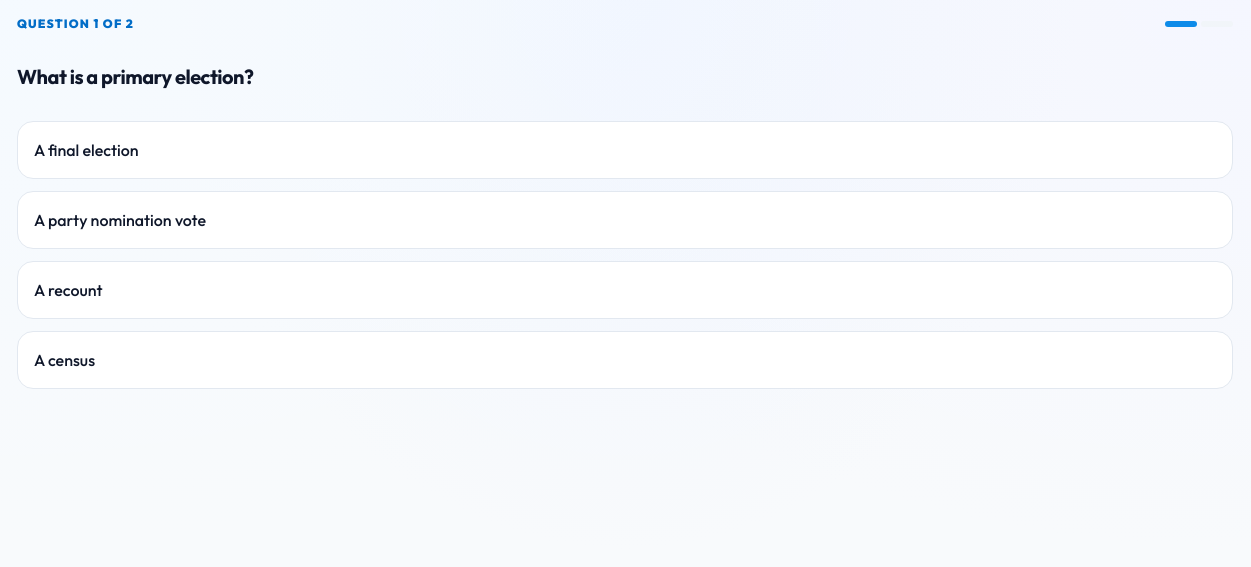
Test case: QuizBlock › shows result screen after last question
Answer Q1
Step 1. Click the button "A party nomination vote" → (120, 220), box [17,191,1233,249]
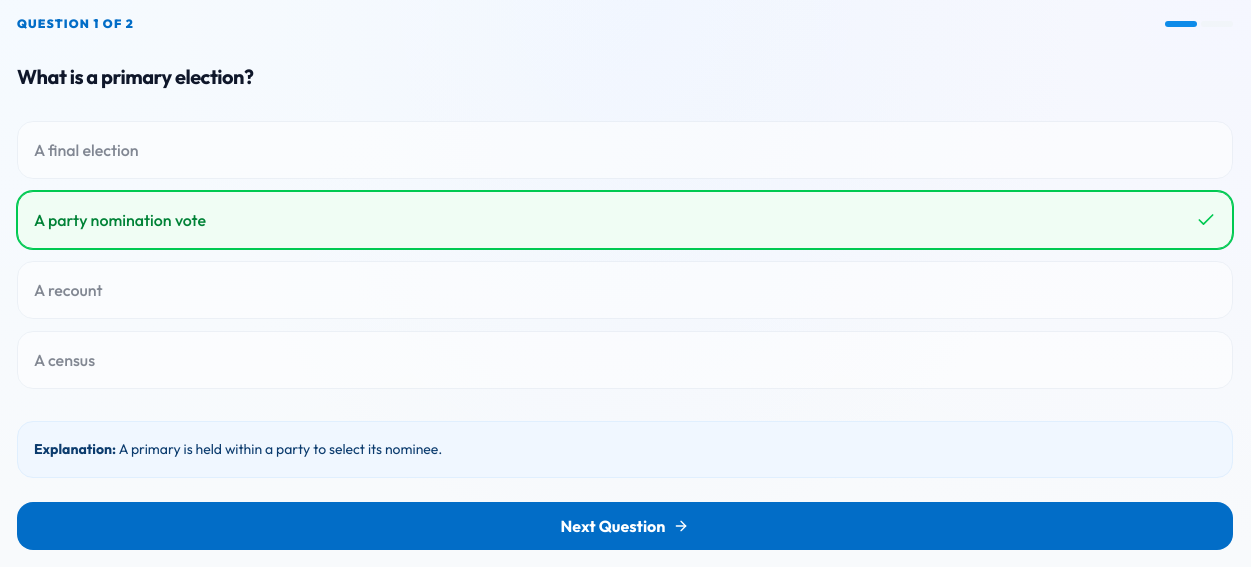
Step 2. Click the button "Next Question" → (625, 526), box [17,502,1233,550]
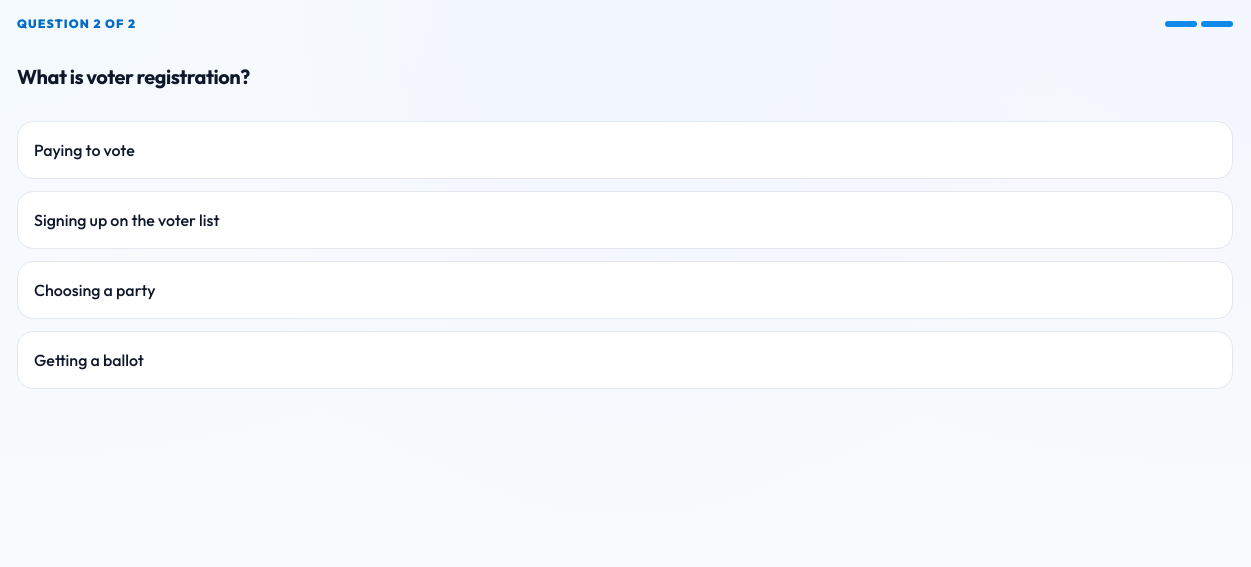
Answer Q2
Step 3. Click the button "Signing up on the voter list" → (127, 220), box [17,191,1233,249]
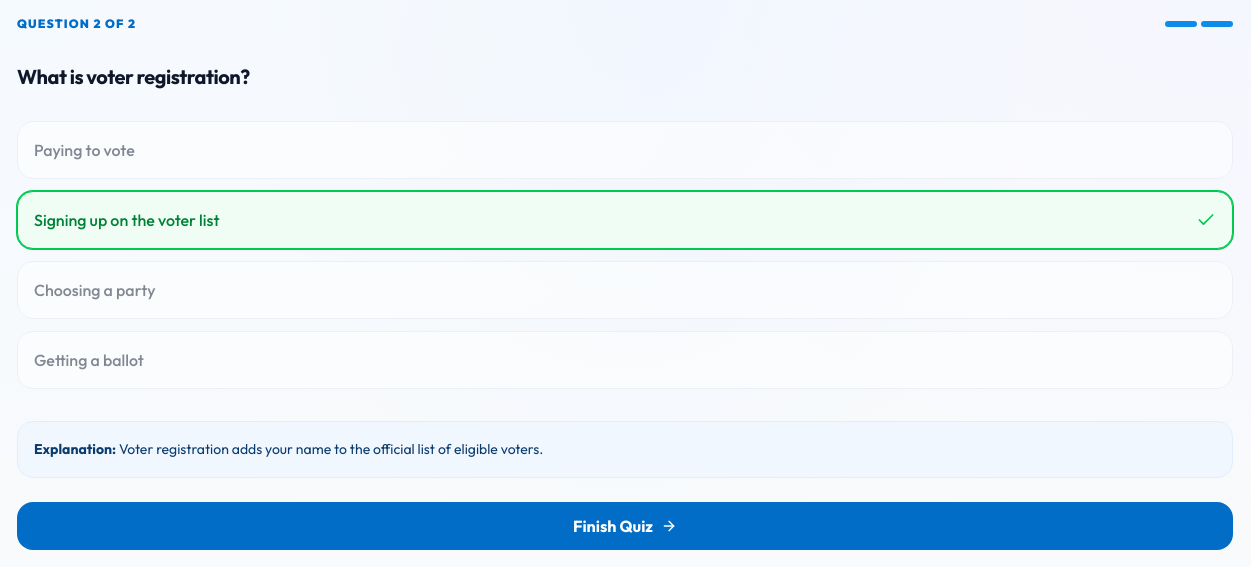
Step 4. Click the button "Finish Quiz" → (625, 526), box [17,502,1233,550]
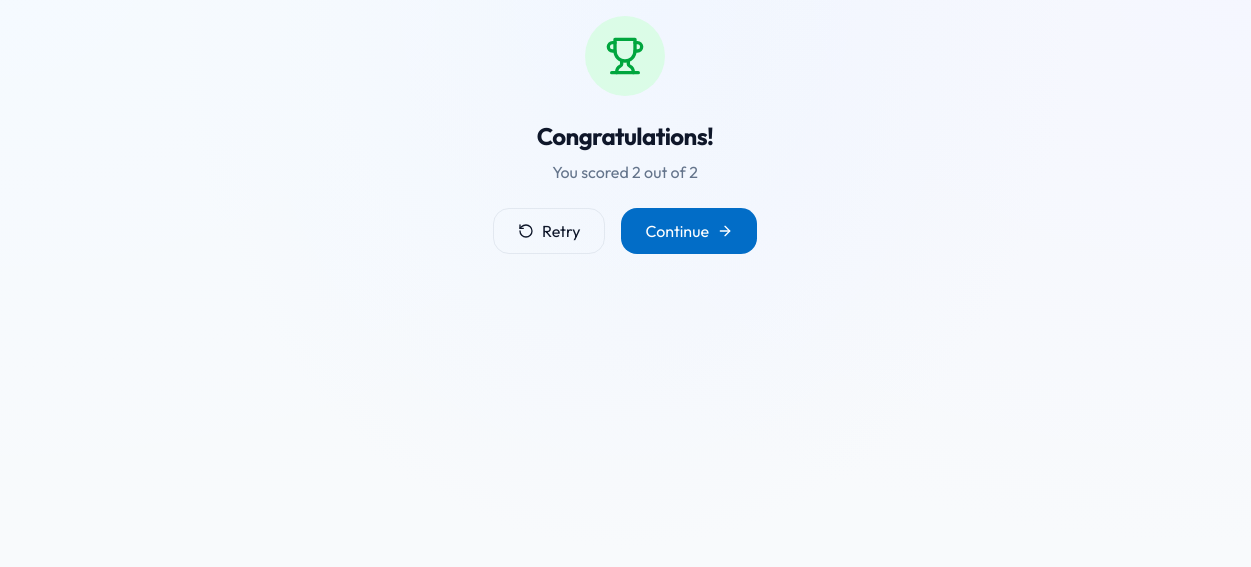
Expected: the text "You scored 2 out of 2" is shown, [552,162,698,182]
